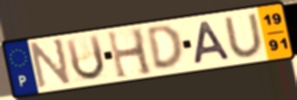A: (193, 19, 234, 66)
D: (144, 23, 186, 71)
H: (105, 26, 156, 81)
N: (29, 37, 73, 91)
U: (63, 33, 107, 83), (222, 11, 267, 59)
